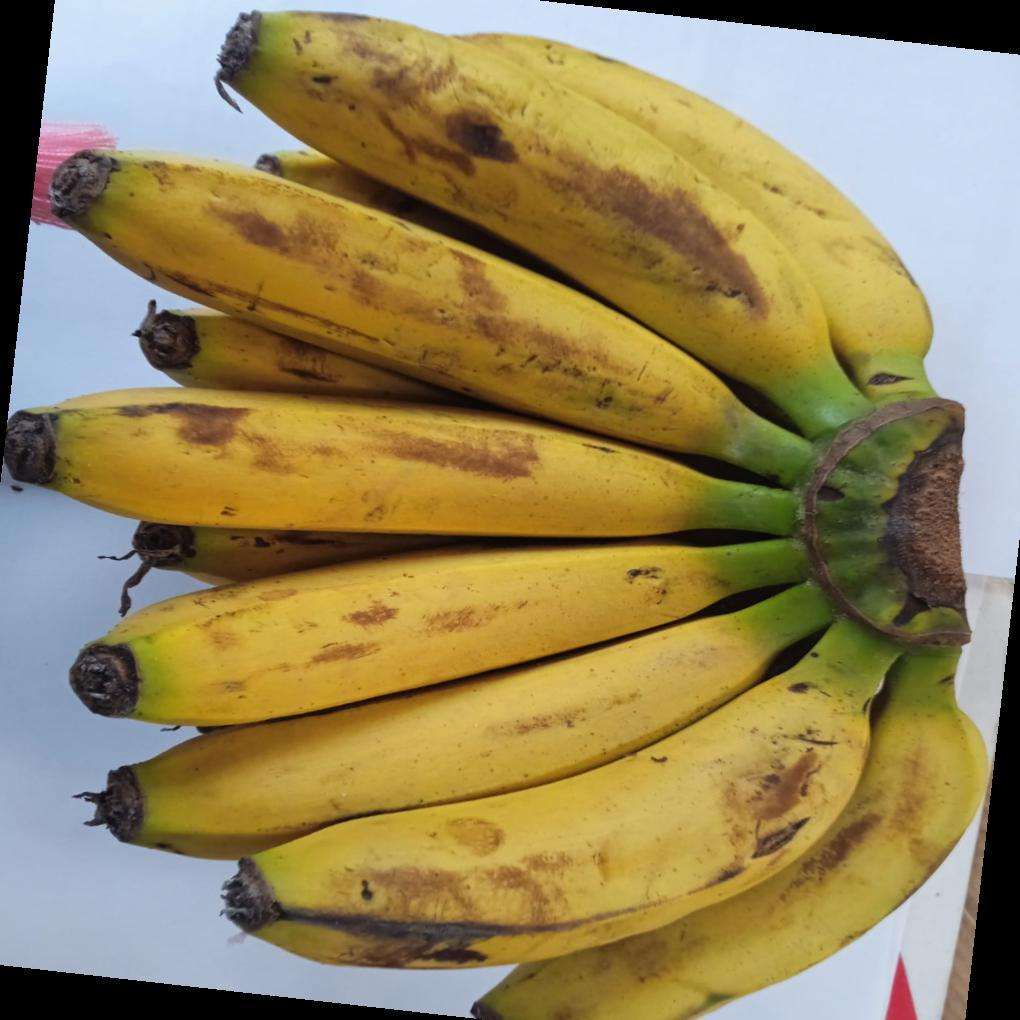Banana Ripe: (54, 545, 1020, 1020), (0, 131, 983, 577), (218, 0, 982, 427)
